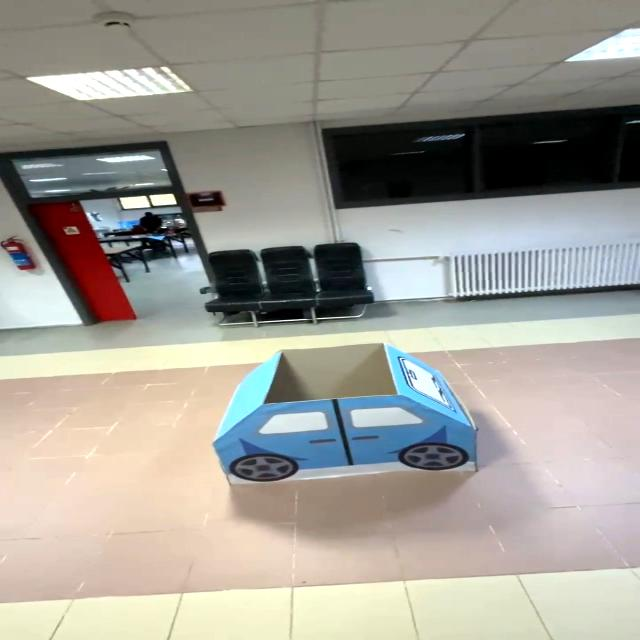blue_car: (178, 334, 502, 512)
